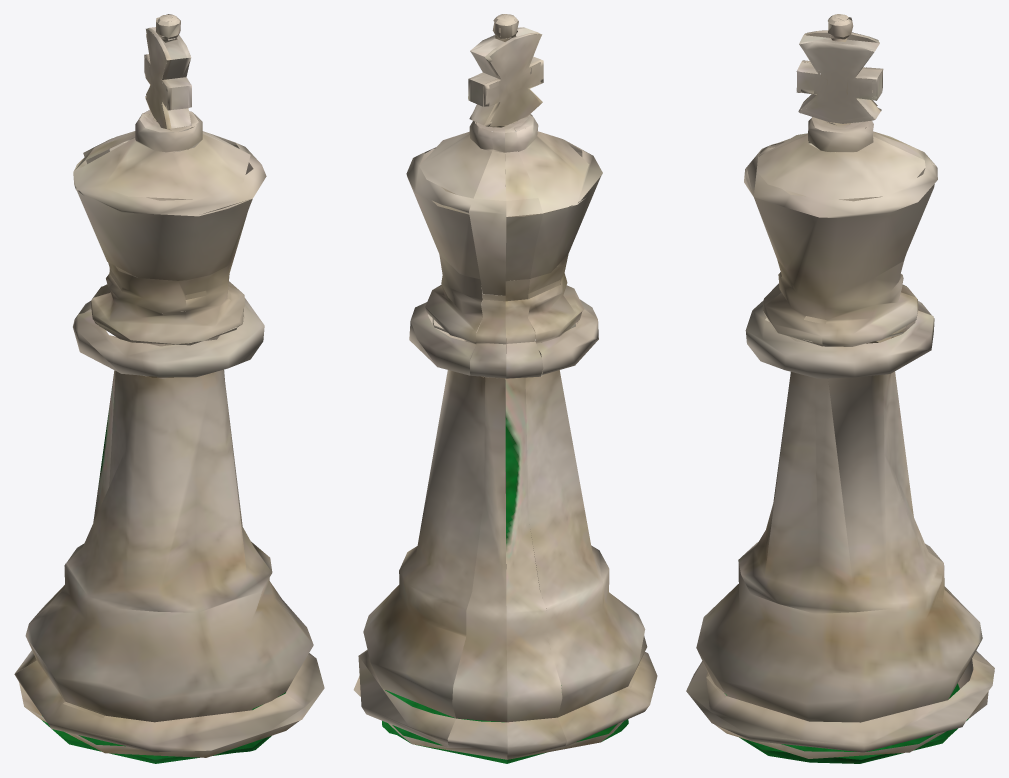
3 views of the same model, side by side, from view 1: azimuth 30°, elevation 25°; view 2: azimuth 150°, elevation 25°; view 3: azimuth 270°, elevation 25° (orthographic).
Visible parts, largest first — view 1: WQ; view 2: WQ; view 3: WQ.
Part boxes in pixels (bbox=[...]): WQ: bbox=[14, 14, 324, 763]; WQ: bbox=[353, 14, 657, 763]; WQ: bbox=[686, 14, 994, 763].
Bounding box in the file's own units: 0.0401 × 0.0998 × 0.0401.
1 material, 1 textured.
